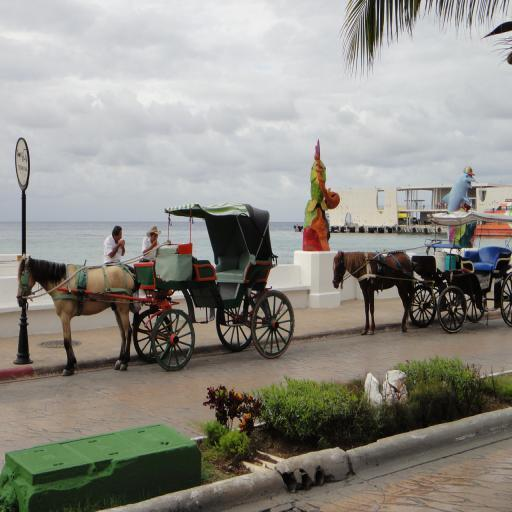horse: (16, 254, 136, 374), (331, 252, 415, 334)
